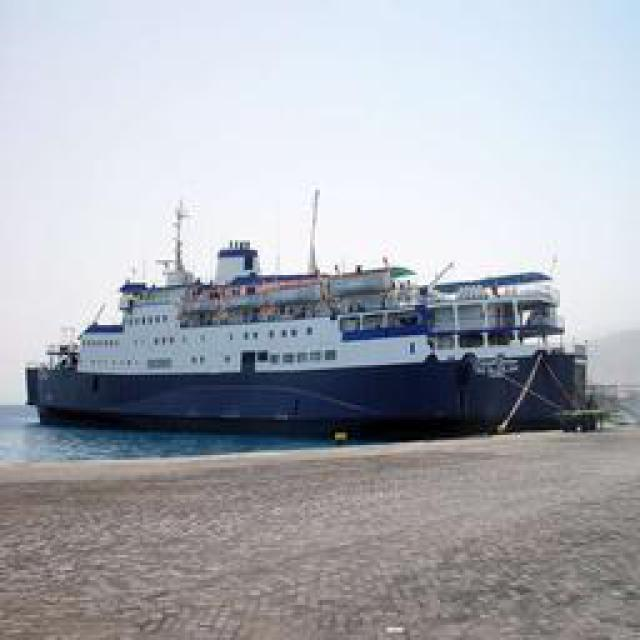Ship: (26, 231, 601, 441)
